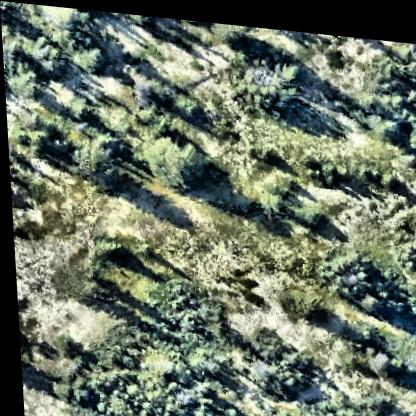tree-top: (238, 46, 305, 113), (155, 130, 211, 186), (74, 132, 123, 190), (330, 232, 376, 283), (3, 52, 46, 101), (55, 259, 99, 305), (131, 64, 169, 109), (69, 35, 109, 76), (164, 275, 202, 318), (385, 324, 416, 372), (359, 375, 395, 414), (271, 345, 307, 384), (165, 370, 203, 405), (290, 282, 325, 319), (93, 233, 128, 267), (362, 337, 394, 370), (254, 322, 282, 356), (373, 105, 403, 136), (217, 18, 254, 43), (64, 378, 91, 405), (203, 310, 229, 338), (298, 197, 325, 223), (252, 135, 279, 161), (46, 374, 71, 402), (355, 284, 382, 309), (375, 160, 400, 186), (317, 149, 342, 175), (28, 123, 53, 149), (177, 93, 203, 117), (67, 96, 90, 122), (53, 330, 74, 355), (153, 352, 173, 375), (260, 403, 290, 416), (220, 399, 238, 416), (391, 82, 407, 99), (413, 275, 416, 318)
